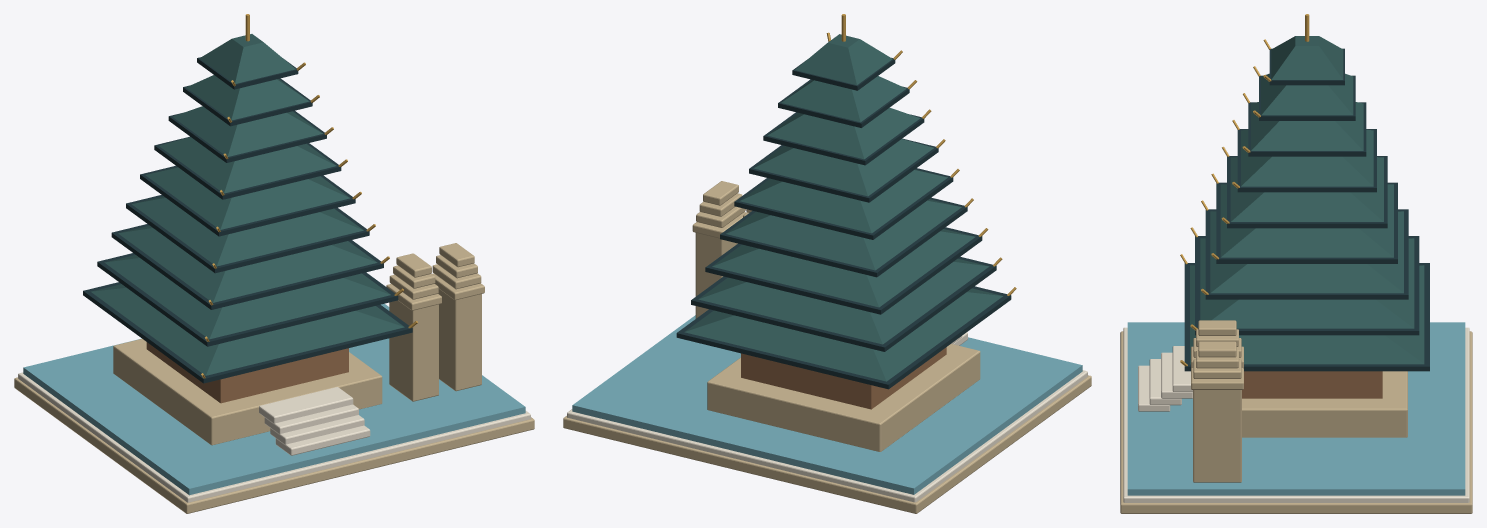
The model's file is bali_temple.glb.
3 renders of one model, left to right at view 1: azimuth 30°, elevation 25°; view 2: azimuth 150°, elevation 25°; view 3: azimuth 270°, elevation 25°, orthographic.
Parts seen in each view (by area): view 1: bali_temple_roof, bali_temple_stone, bali_temple_glass, bali_temple_ink, bali_temple_ivory, bali_temple_bronze, bali_temple_gold; view 2: bali_temple_roof, bali_temple_glass, bali_temple_stone, bali_temple_ink, bali_temple_ivory, bali_temple_bronze; view 3: bali_temple_roof, bali_temple_glass, bali_temple_stone, bali_temple_ink, bali_temple_ivory, bali_temple_bronze, bali_temple_gold.
Part boxes in pixels (x1,y1,x2,y2): bali_temple_roof: (91, 34, 404, 375); bali_temple_stone: (14, 243, 534, 513); bali_temple_glass: (23, 303, 525, 495); bali_temple_ink: (83, 57, 412, 383); bali_temple_ivory: (18, 372, 530, 502); bali_temple_bronze: (146, 342, 348, 403); bali_temple_gold: (201, 14, 417, 378); bali_temple_roof: (684, 34, 1002, 381); bali_temple_glass: (572, 315, 1082, 494); bali_temple_stone: (563, 181, 1091, 513); bali_temple_ink: (676, 57, 1011, 389); bali_temple_ivory: (567, 332, 1087, 502); bali_temple_bronze: (741, 347, 946, 409); bali_temple_roof: (1190, 36, 1424, 364); bali_temple_glass: (1127, 322, 1465, 495); bali_temple_stone: (1120, 320, 1472, 513); bali_temple_ink: (1184, 48, 1429, 371); bali_temple_ivory: (1123, 327, 1469, 502); bali_temple_bronze: (1242, 371, 1382, 398); bali_temple_gold: (1180, 14, 1309, 366).
Bounding box in the file's own units: 5.7 × 6.18 × 4.9.
